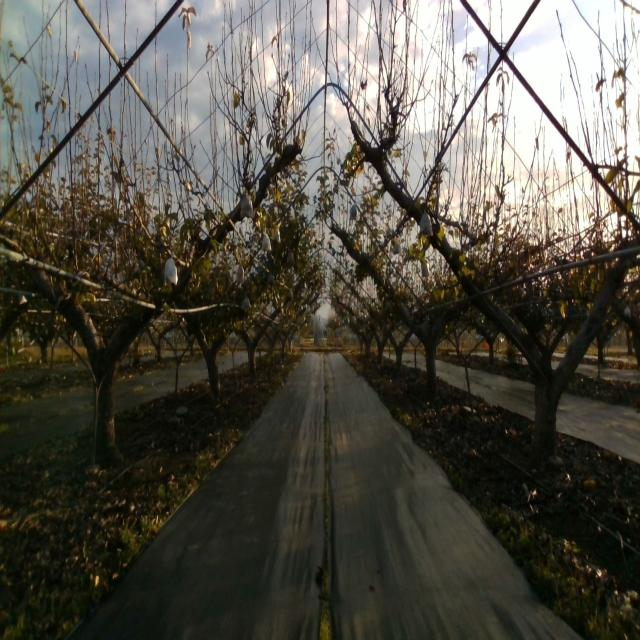pearbags: (163, 252, 178, 286), (417, 209, 433, 236), (240, 191, 254, 219), (262, 231, 272, 251)
